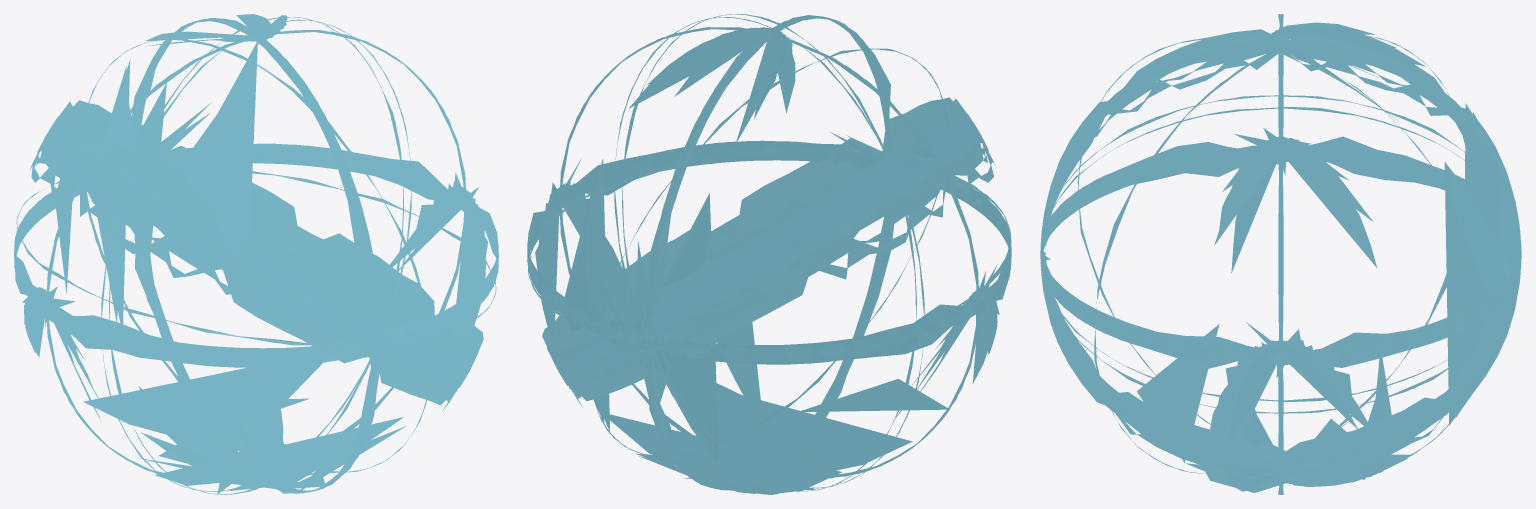
Rendered from bridge_support.glb.
The picture shows the model from 3 angles, left to right: view 1: azimuth 30°, elevation 25°; view 2: azimuth 150°, elevation 25°; view 3: azimuth 270°, elevation 25°; orthographic projection.
Visible parts, largest first — view 1: bridge_support; view 2: bridge_support; view 3: bridge_support.
Part boxes in pixels (x1,y1,x2,y2): bridge_support: (14, 14, 498, 494); bridge_support: (527, 14, 1011, 494); bridge_support: (1040, 14, 1521, 494).
Bounding box in the file's own units: 2 × 2 × 2.
